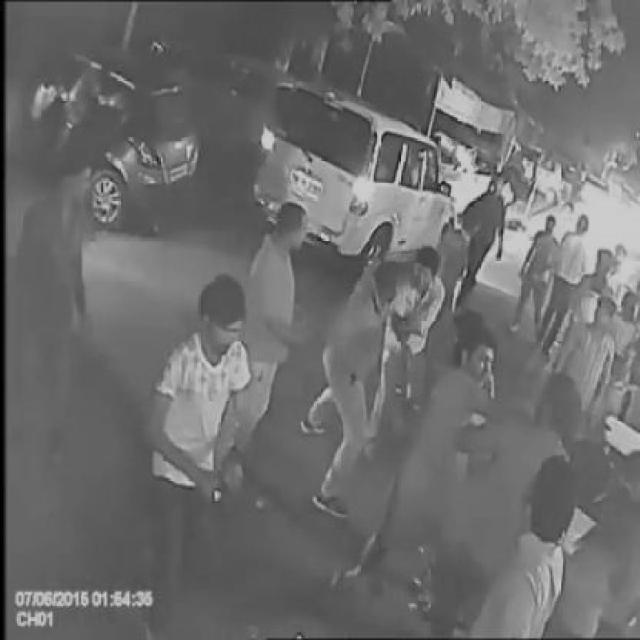fight: (295, 236, 451, 527)
